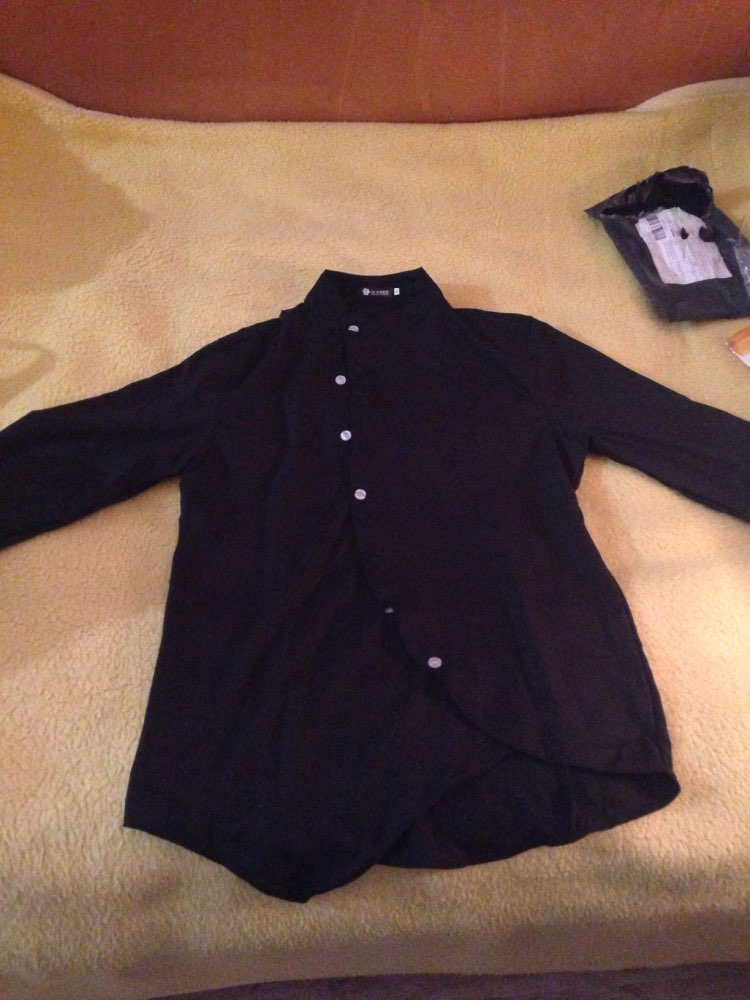shirts: (26, 261, 750, 901)
